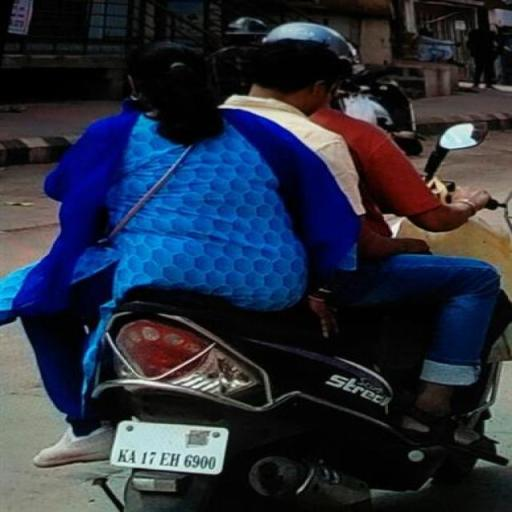tripple riding: (4, 14, 510, 344)
